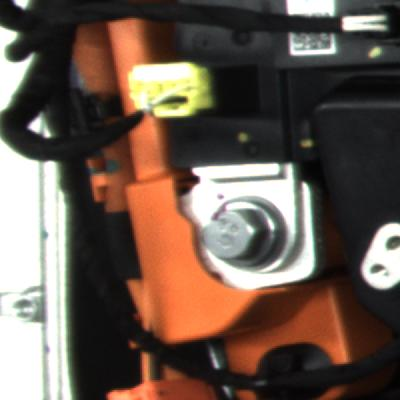nut_b: (195, 179, 316, 279)
